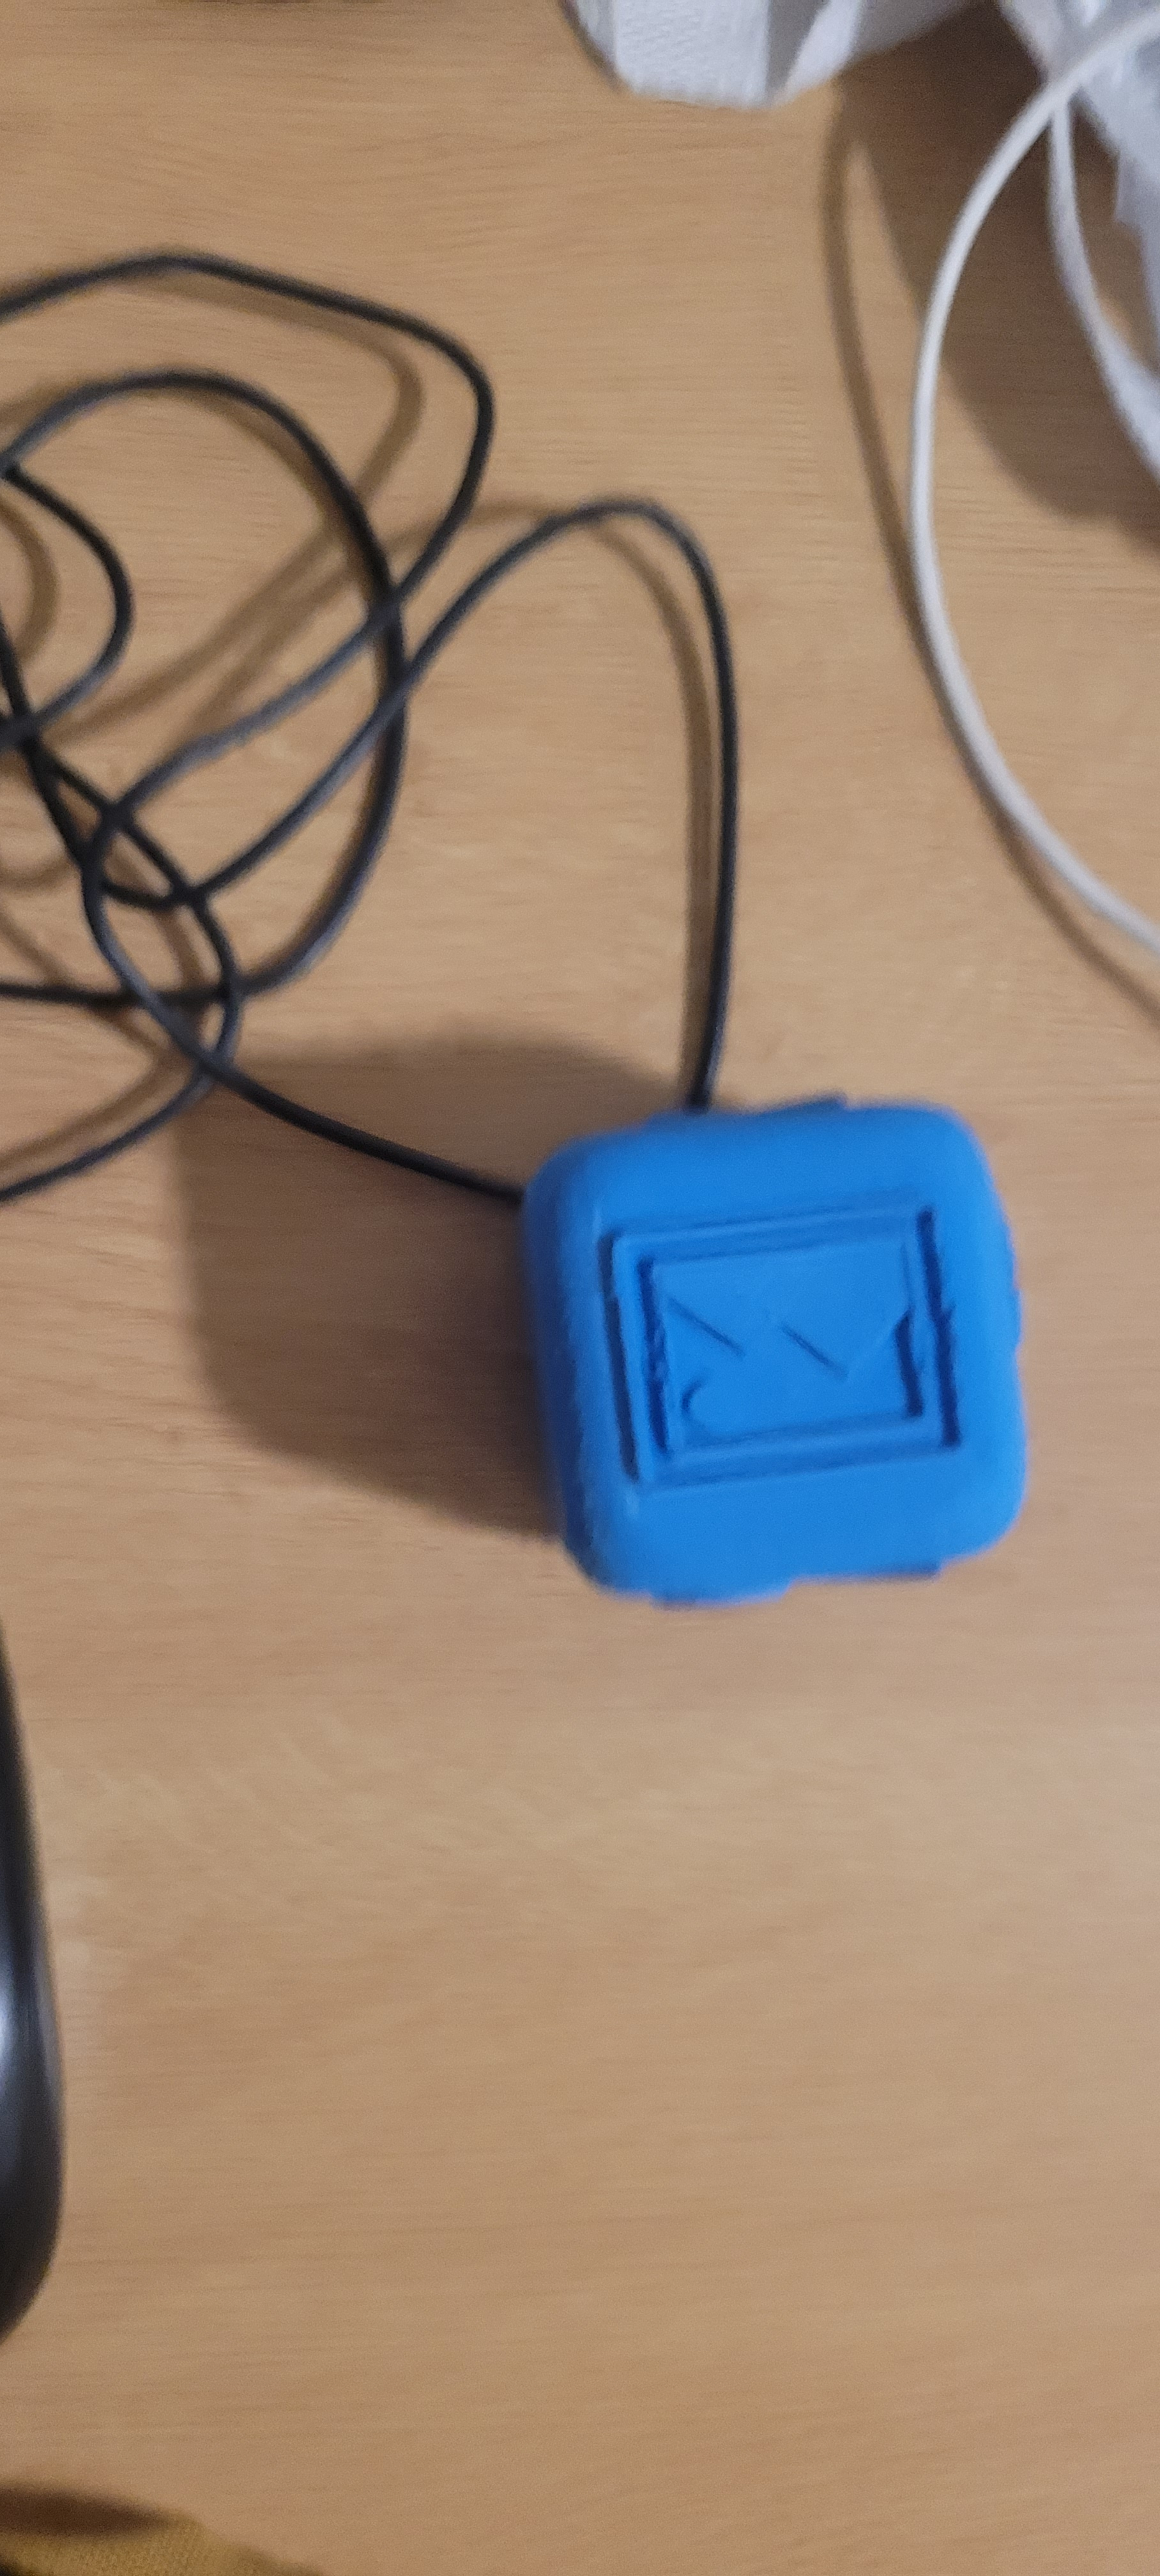Story: (592, 1206, 986, 1516)
